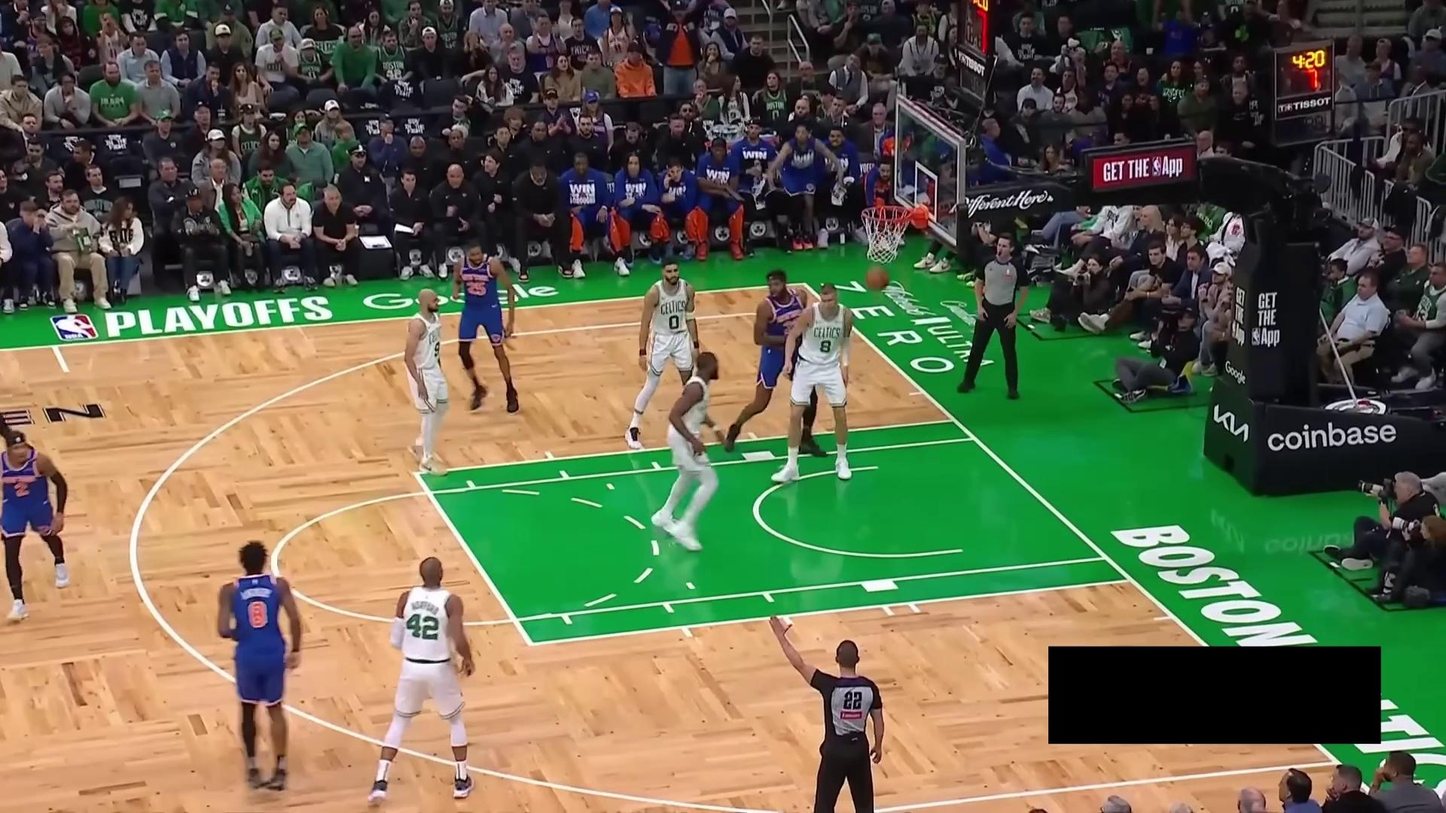ball: (865, 265, 890, 291)
number: (407, 613, 440, 641), (248, 599, 269, 629), (465, 280, 487, 297), (667, 313, 681, 331), (819, 338, 833, 355)
player: (365, 556, 476, 805), (217, 540, 304, 792), (625, 257, 722, 453), (770, 282, 855, 485), (726, 267, 815, 456), (651, 351, 728, 553), (0, 427, 72, 625), (450, 239, 520, 416), (404, 287, 452, 479)
referee: (767, 613, 886, 812), (956, 231, 1031, 400)
rim: (860, 204, 914, 223)
